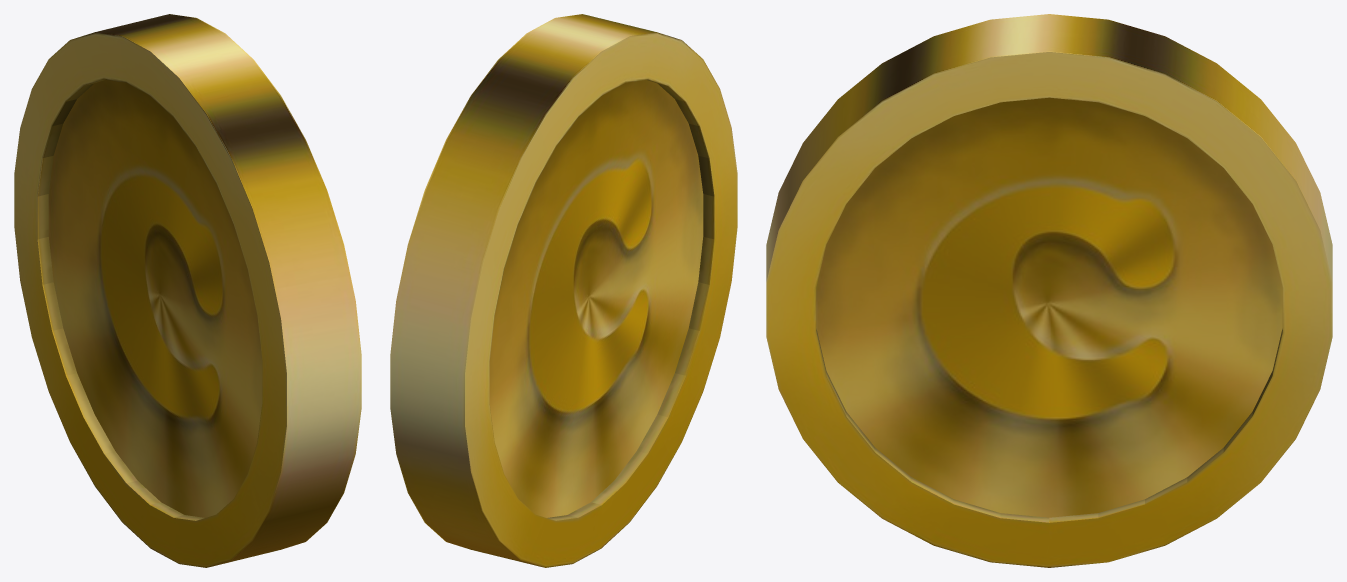
Rendered from coin.glb.
The picture shows the model from 3 angles, left to right: view 1: azimuth 30°, elevation 25°; view 2: azimuth 150°, elevation 25°; view 3: azimuth 270°, elevation 25°; orthographic projection. The views are drawn at different scales.
Parts seen in each view (by area): view 1: Cylinder001_Material #47_0; view 2: Cylinder001_Material #47_0; view 3: Cylinder001_Material #47_0.
Boxes of the visible parts, x1,y1,x2,y2 form: Cylinder001_Material #47_0: (14,14,361,567); Cylinder001_Material #47_0: (390,14,737,567); Cylinder001_Material #47_0: (766,14,1332,567).
Size of the model in its own units: 6.32 by 39.37 by 39.15.
1 material, 1 textured.
